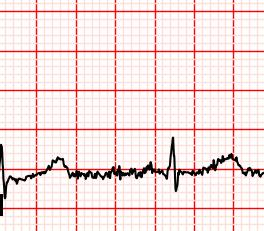ST Depression: (160, 164, 184, 195)
